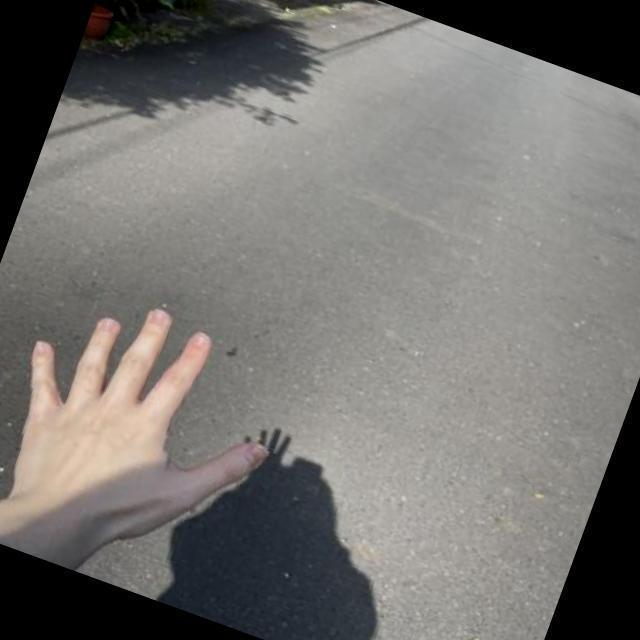hand: (0, 260, 316, 623)
